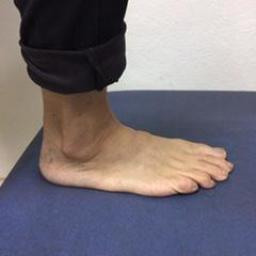Lateral View -Right Foot-: (33, 82, 237, 208)
